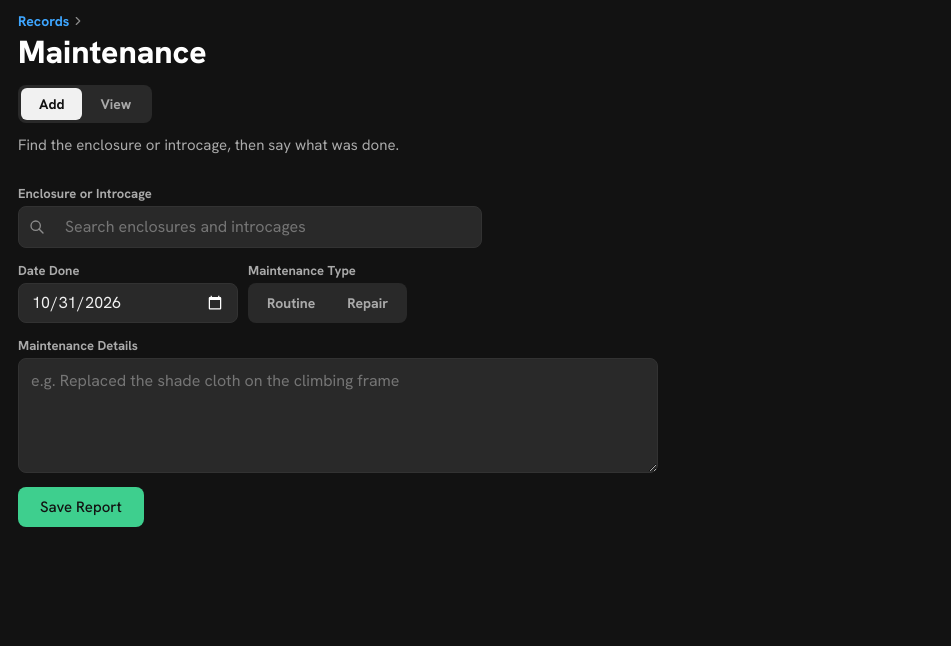
Test: Add › find the introcage, then the date, Routine or Repair and the details; saved, ready for the next
Type "holt" into the search field labelled "Search enclosures and introcages" at (267, 227), box [53, 207, 481, 247]
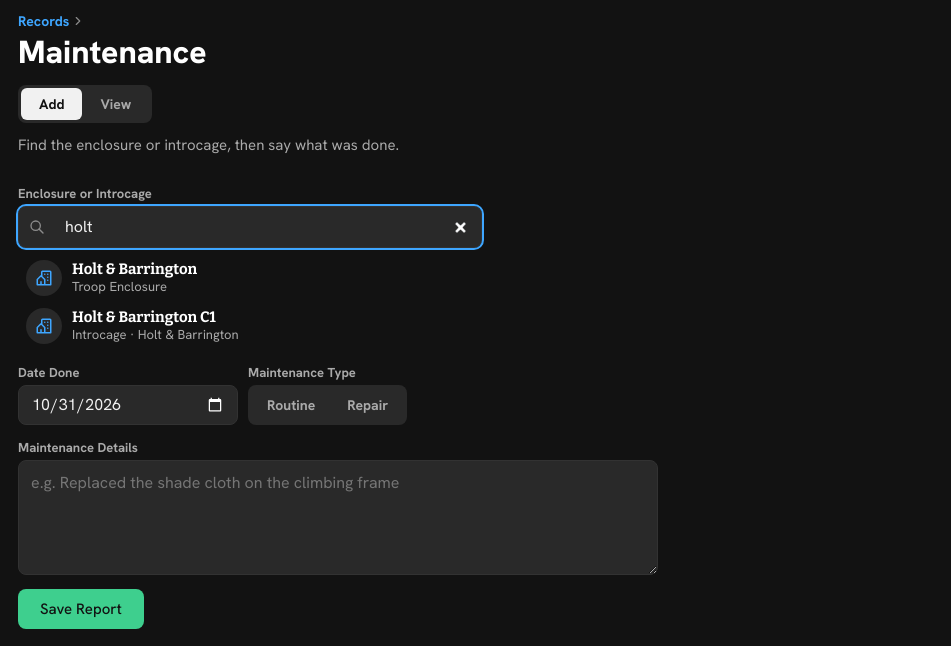
Check: the buttons read "Holt & BarringtonTroop Enclosure", "Holt & Barrington C1Introcage · Holt & Barrington", in this order
Click the button "Holt & Barrington C1 Introcage · Holt & Barrington" at (44, 326), box [18, 302, 470, 350]
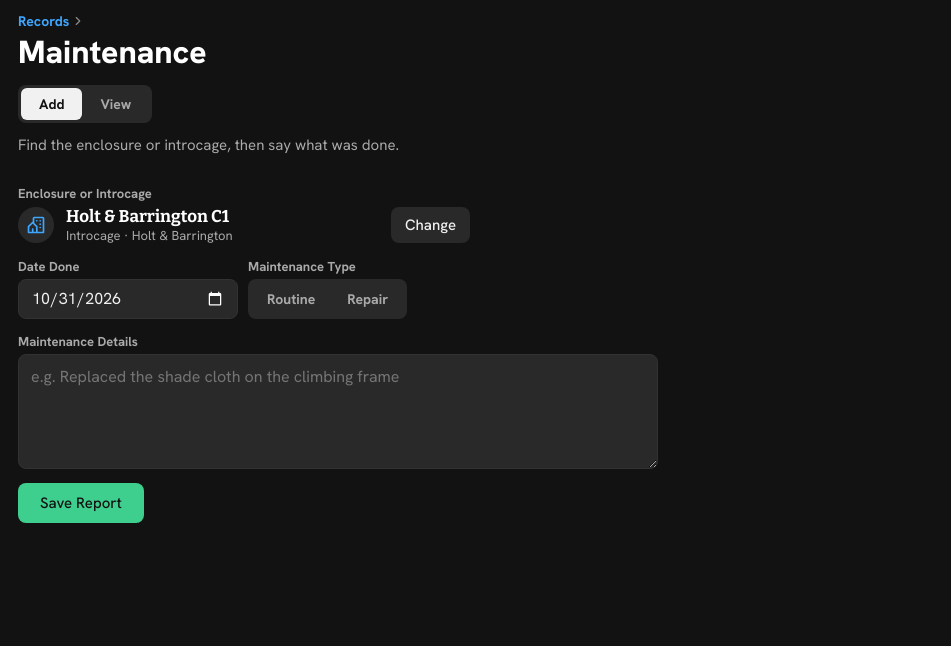
Click the button "Repair" at (368, 299), box [331, 282, 404, 316]
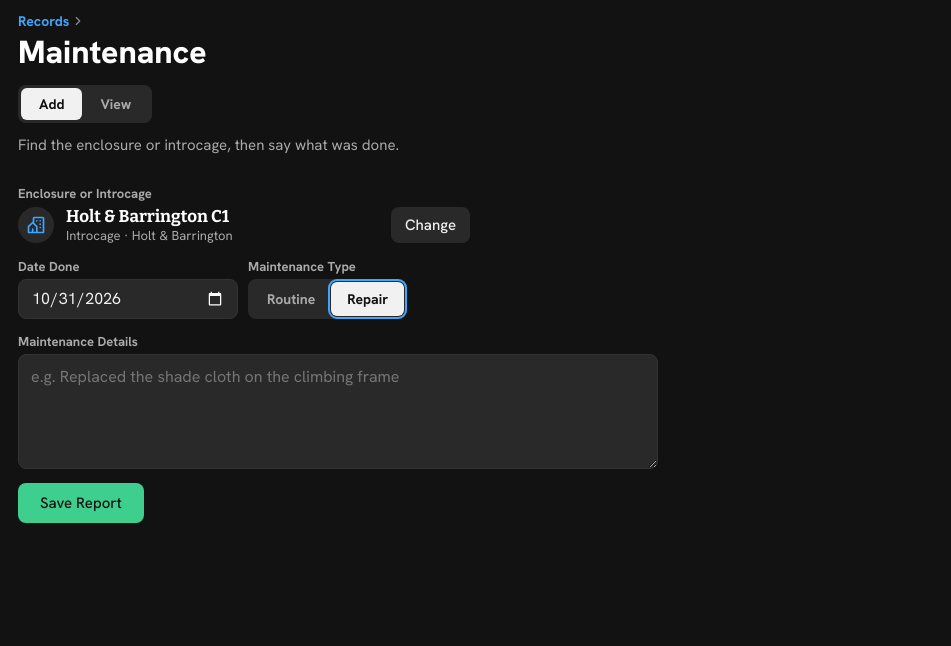
Type "New perch." into the text box labelled "Maintenance Details" at (338, 411), box [18, 354, 658, 469]
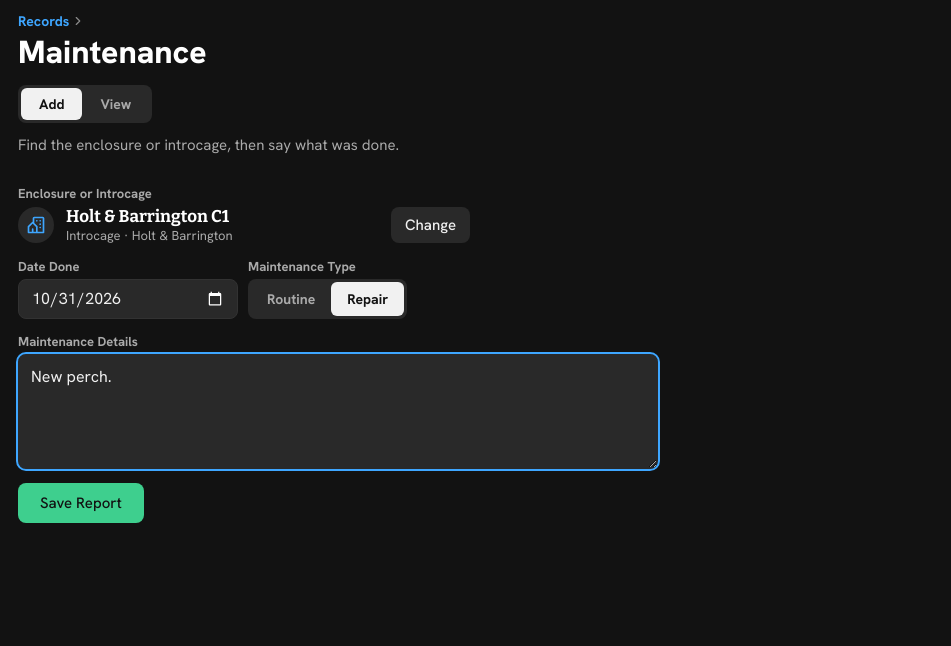
Click the button "Save Report" at (81, 502), box [18, 482, 144, 522]
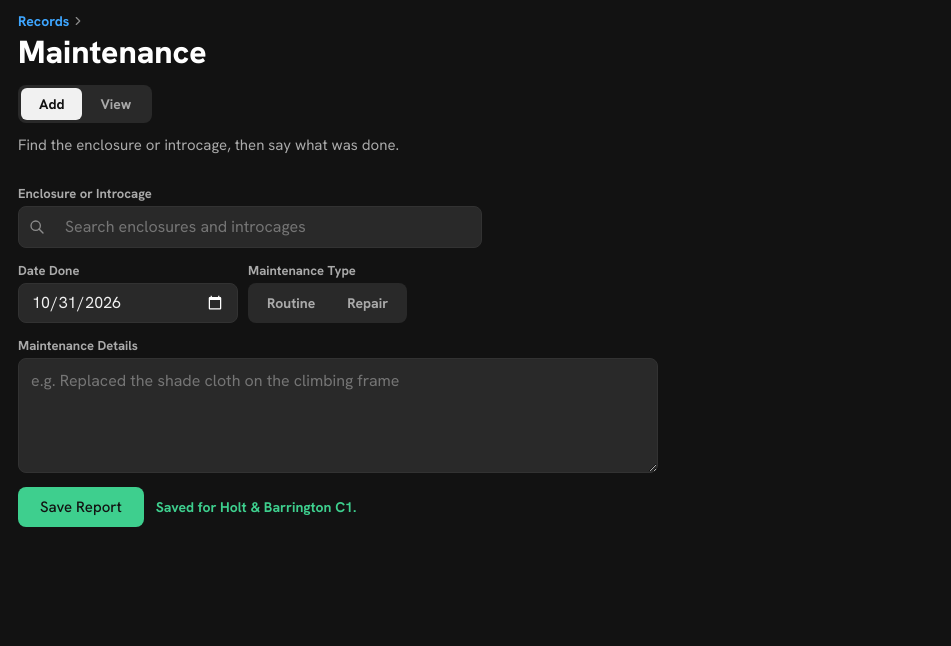
Check: the text "Saved for Holt & Barrington C1." is shown, box [156, 498, 356, 516]
Check: the text box labelled "Maintenance Details" is empty, box [18, 358, 658, 473]
Note: (and it's in View)
Click the tab "View" at (116, 104), box [82, 88, 149, 120]
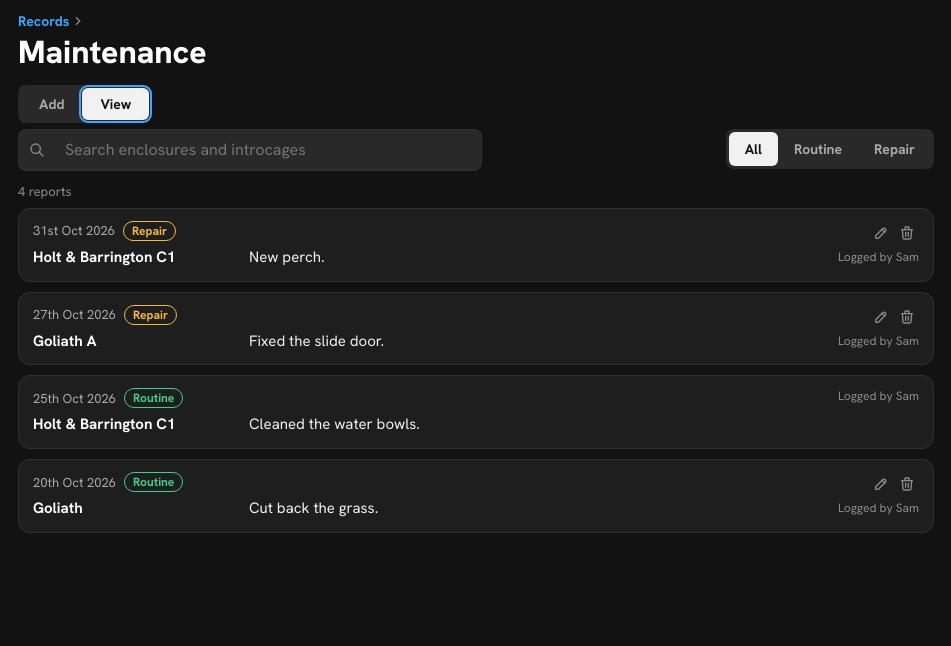
Check: the text "New perch." is shown, box [249, 247, 324, 267]
